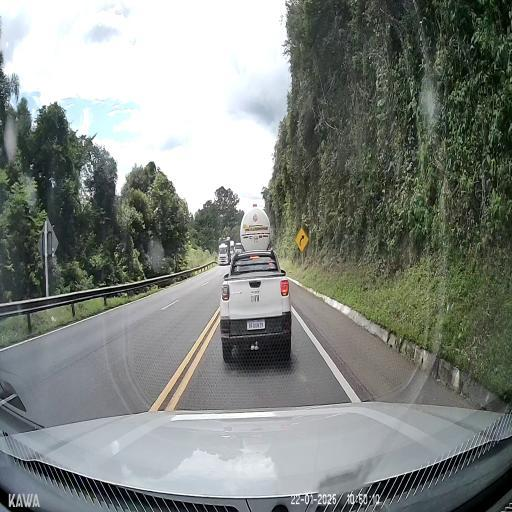A-2b: (294, 227, 308, 252)
